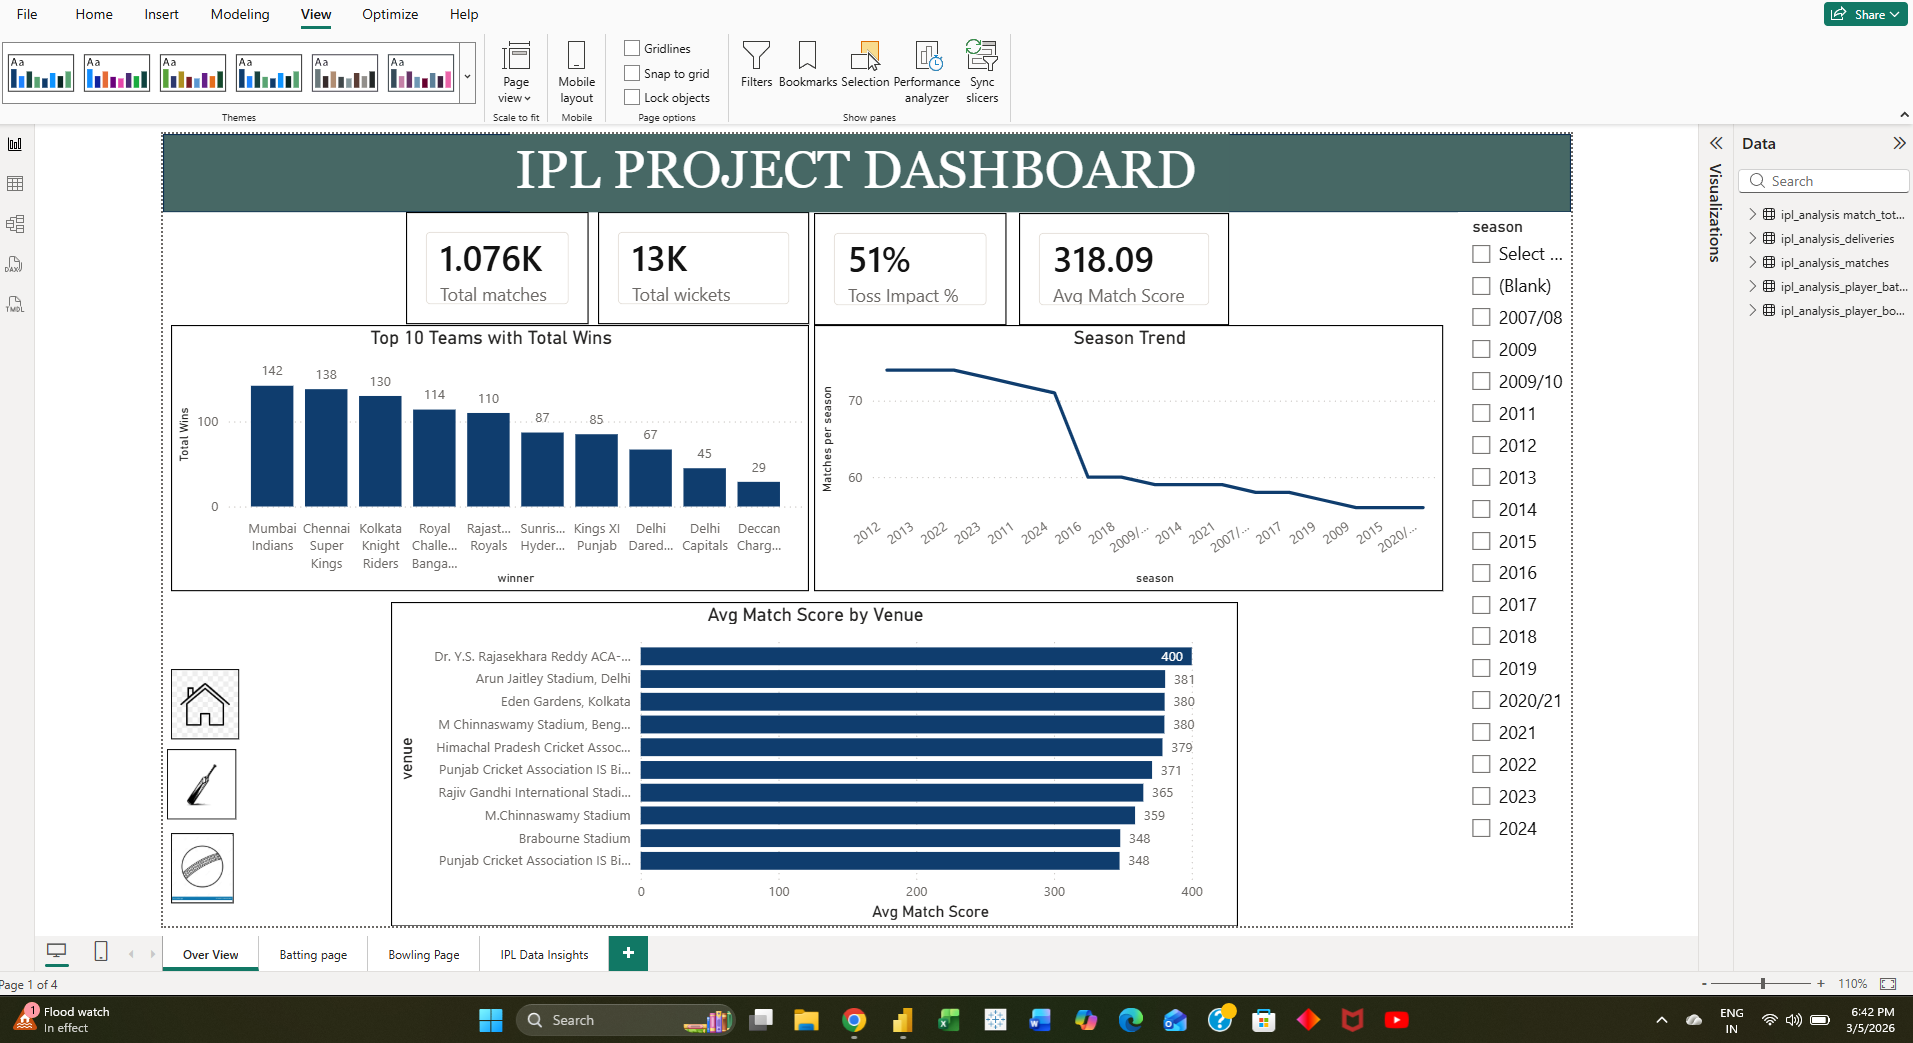

The page's visual inventory and layout, read from the dashboard file:
{"tool":"powerbi","page":{"name":"Over View","canvas":[1280,720],"ordinal":0},"visuals":[{"type":"cardVisual","title":"Total Matches","fields":{"Data":["Sum(ipl_analysis deliveries.is_wicket)"]},"box":[395,71,192,102],"z":0},{"type":"cardVisual","title":"Total Matches","fields":{"Data":["ipl_analysis match_totals.Avg Match Score"]},"box":[778,72,191,102],"z":1000},{"type":"columnChart","title":"Top 10 Teams with Total Wins","fields":{"Category":["ipl_analysis_matches.winner"],"Y":["ipl_analysis_deliveries.Total Wins"]},"box":[7,174,580,242],"z":2000},{"type":"shape","box":[0,0,1280,71.3],"z":3000},{"type":"cardVisual","title":"Total Matches","fields":{"Data":["ipl_analysis_deliveries.Toss Impact %"]},"box":[592,72,175,102],"z":4000},{"type":"cardVisual","title":"Total Matches","fields":{"Data":["ipl_analysis match_totals.Total matches"]},"box":[221,71,166,102],"z":5000},{"type":"lineChart","title":"Season Trend","fields":{"Category":["ipl_analysis match_totals.season"],"Y":["ipl_analysis_player_bowling_stats.Matches per season"]},"box":[592,174,572,242],"z":6000},{"type":"clusteredBarChart","title":"Avg Match Score by Venue","fields":{"Category":["ipl_analysis match_totals.venue"],"Y":["ipl_analysis match_totals.Avg Match Score"]},"box":[207,425,770,295],"z":7000},{"type":"image","box":[7,486,62,64],"z":8000},{"type":"image","box":[4,559,63,64],"z":9000},{"type":"image","box":[7,635,57,64],"z":10000},{"type":"textbox","box":[315,0,654,71],"z":11000},{"type":"slicer","fields":{"Values":["ipl_analysis_matches.season"]},"box":[1177,71,103,649],"z":12000}]}

Visuals, with their boxes on the page's 1280x720 design canvas (x1, y1, x2, y2). These are canvas units, not pixel positions in the 1913x1043 screenshot, which may show the page scaled, cropped or inside an application window:
"Total Matches" cardVisual: 395/71/587/173
"Total Matches" cardVisual: 778/72/969/174
"Top 10 Teams with Total Wins" columnChart: 7/174/587/416
shape: 0/0/1280/71
"Total Matches" cardVisual: 592/72/767/174
"Total Matches" cardVisual: 221/71/387/173
"Season Trend" lineChart: 592/174/1164/416
"Avg Match Score by Venue" clusteredBarChart: 207/425/977/720
image: 7/486/69/550
image: 4/559/67/623
image: 7/635/64/699
textbox: 315/0/969/71
slicer - ipl_analysis_matches.season: 1177/71/1280/720
